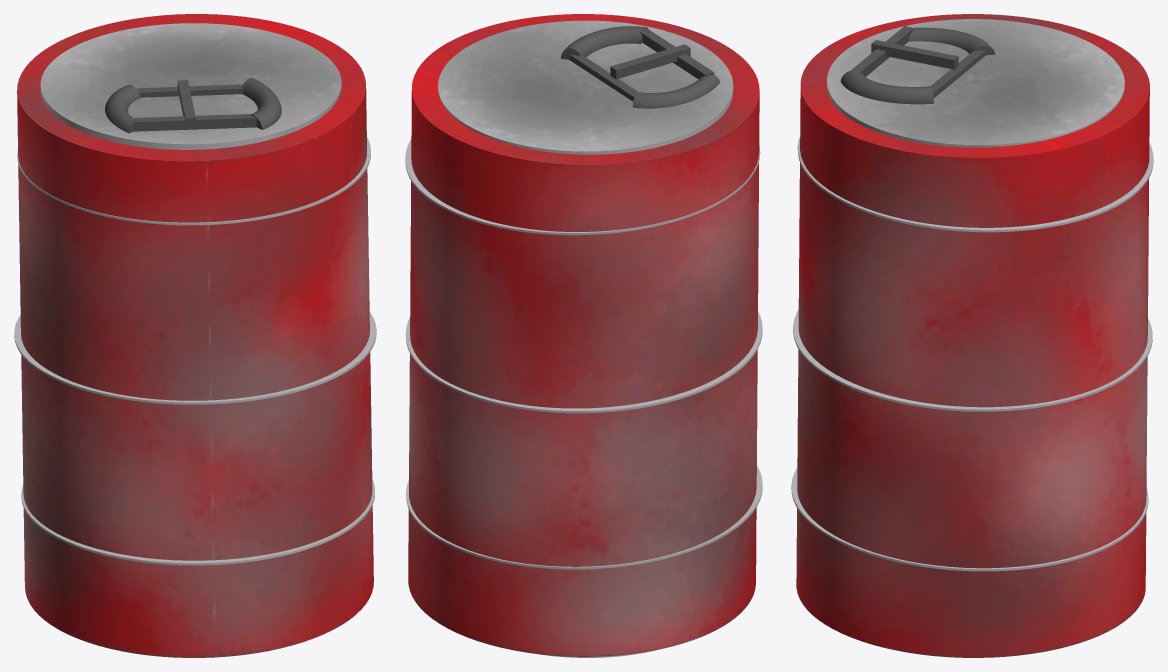
File: barril.fbx
3 views of the same model, side by side, from view 1: azimuth 30°, elevation 25°; view 2: azimuth 150°, elevation 25°; view 3: azimuth 270°, elevation 25° (orthographic).
Parts seen in each view (by area): view 1: node_id5, node_id8, node_id14, node_id11, node_id29, node_id17, node_id26, node_id32, node_id23, node_id35; view 2: node_id5, node_id8, node_id14, node_id11, node_id17, node_id26, node_id32, node_id35, node_id29, node_id23; view 3: node_id5, node_id8, node_id14, node_id17, node_id11, node_id26, node_id32, node_id35, node_id29, node_id23.
Part boxes in pixels (box(x1,y1,x2,y2)): node_id5: box(17, 14, 373, 657); node_id8: box(40, 23, 341, 149); node_id14: box(14, 312, 376, 404); node_id11: box(21, 479, 374, 565); node_id29: box(132, 114, 256, 131); node_id17: box(17, 137, 370, 225); node_id26: box(242, 78, 281, 129); node_id32: box(105, 84, 140, 133); node_id23: box(136, 84, 243, 97); node_id35: box(177, 80, 196, 128); node_id5: box(408, 14, 759, 656); node_id8: box(438, 20, 733, 154); node_id14: box(405, 311, 762, 413); node_id11: box(406, 466, 762, 569); node_id17: box(405, 139, 760, 235); node_id26: box(560, 26, 648, 59); node_id32: box(632, 75, 720, 108); node_id35: box(610, 44, 690, 79); node_id29: box(640, 28, 714, 79); node_id23: box(569, 54, 637, 101); node_id5: box(796, 14, 1149, 657); node_id8: box(826, 19, 1124, 147); node_id14: box(793, 309, 1152, 411); node_id17: box(797, 136, 1153, 232); node_id11: box(791, 467, 1148, 571); node_id26: box(840, 70, 933, 104); node_id32: box(908, 27, 995, 55); node_id35: box(871, 40, 958, 69); node_id29: box(851, 26, 913, 76); node_id23: box(930, 50, 986, 98).
Size of the model in its own units: 0.3159 by 0.511 by 0.317.
Materials: 11 (11 with a texture image).
